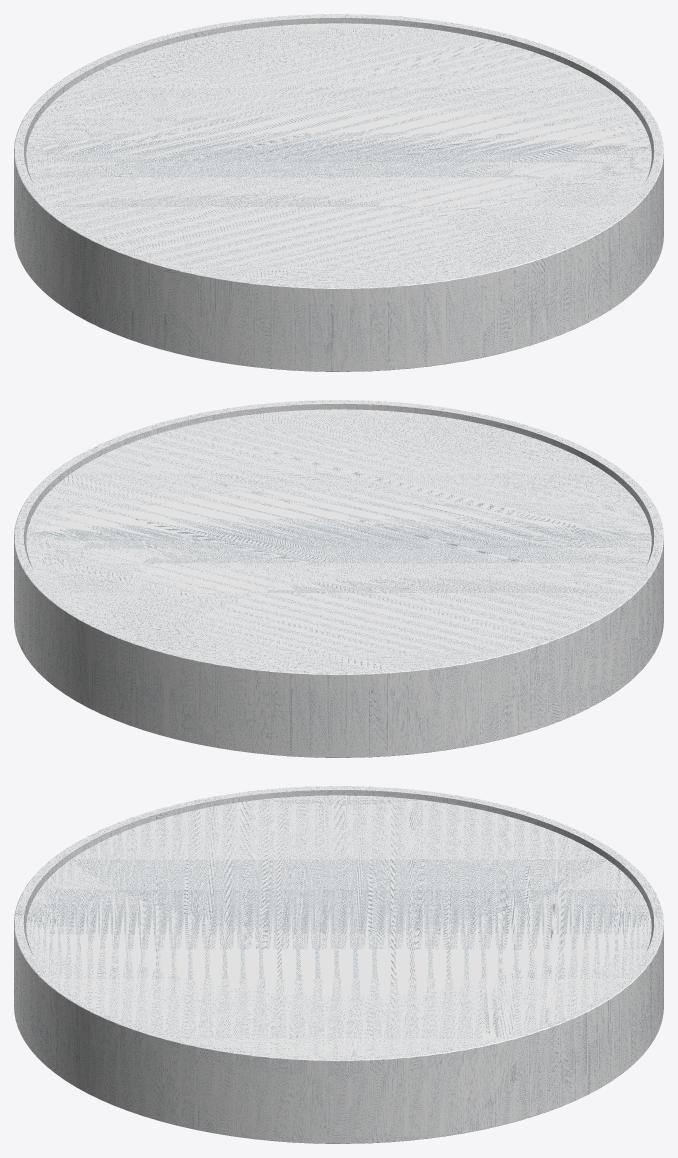
The model's file is circularLight.dae.
3 renders of one model, top to bottom at view 1: azimuth 30°, elevation 25°; view 2: azimuth 150°, elevation 25°; view 3: azimuth 270°, elevation 25°, orthographic.
Visible parts, largest first — view 1: group_0 (×4); view 2: group_0 (×4); view 3: group_0 (×4).
Boxes of the visible parts, x1,y1,x2,y2 form: group_0 (×4): (14, 14, 663, 371); group_0 (×4): (14, 400, 663, 757); group_0 (×4): (14, 786, 663, 1143).
Size of the model in its own units: 17.71 by 17.71 by 2.52.
